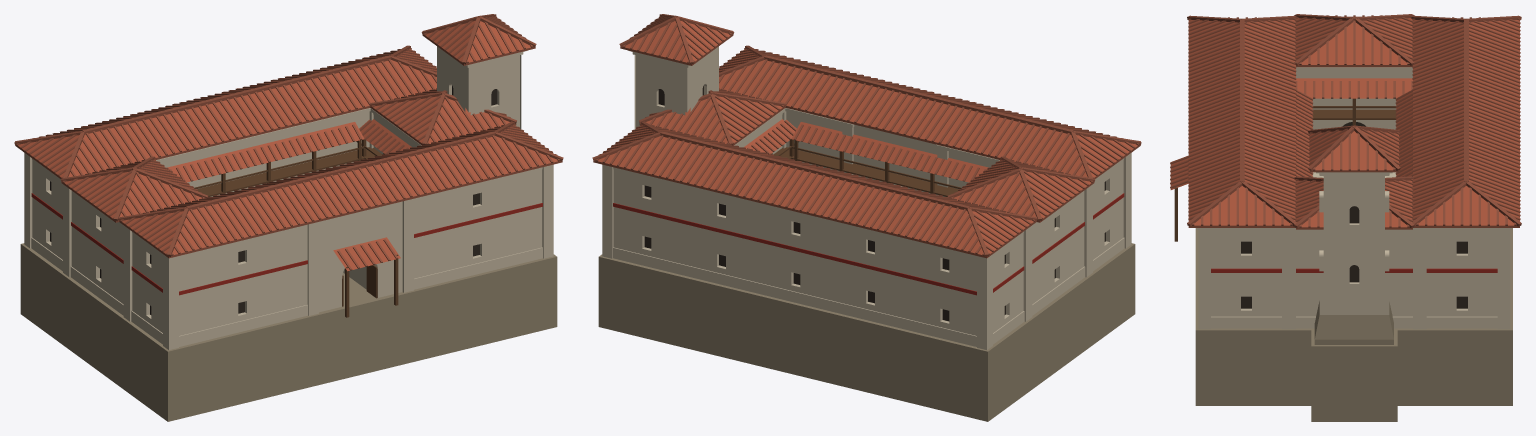
File: ant_barracks.glb
The picture shows the model from 3 angles, left to right: view 1: azimuth 30°, elevation 25°; view 2: azimuth 150°, elevation 25°; view 3: azimuth 270°, elevation 25°; orthographic projection. The views are drawn at different scales.
Parts seen in each view (by area): view 1: ant_barracks; view 2: ant_barracks; view 3: ant_barracks.
Part boxes in pixels (x1,y1,x2,y2): ant_barracks: [14, 14, 563, 421]; ant_barracks: [592, 14, 1141, 421]; ant_barracks: [1170, 14, 1521, 421].
Size of the model in its own units: 38.36 by 22 by 25.26.
